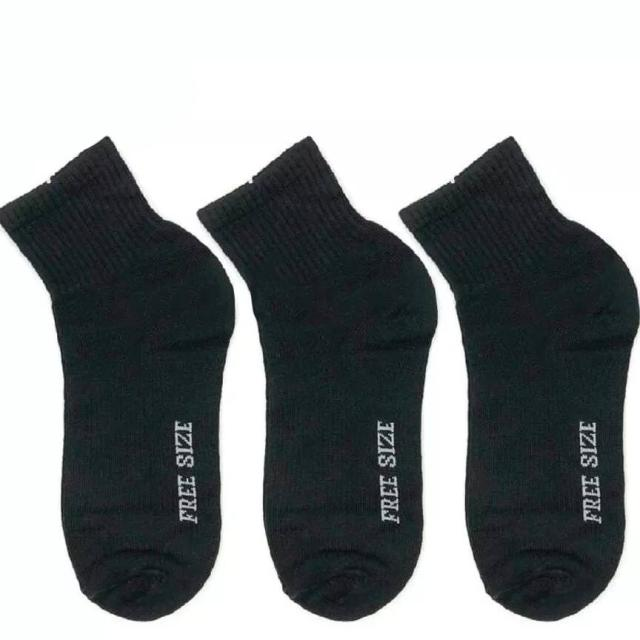sock: (195, 134, 438, 622), (398, 134, 638, 622), (0, 134, 236, 622)
